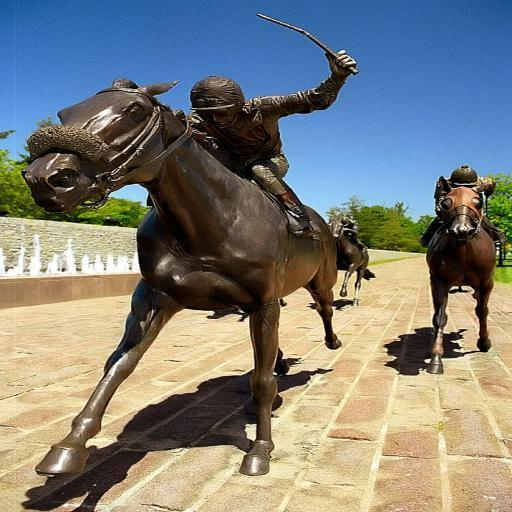horse: (19, 76, 340, 478), (424, 176, 498, 374), (328, 216, 372, 306)
